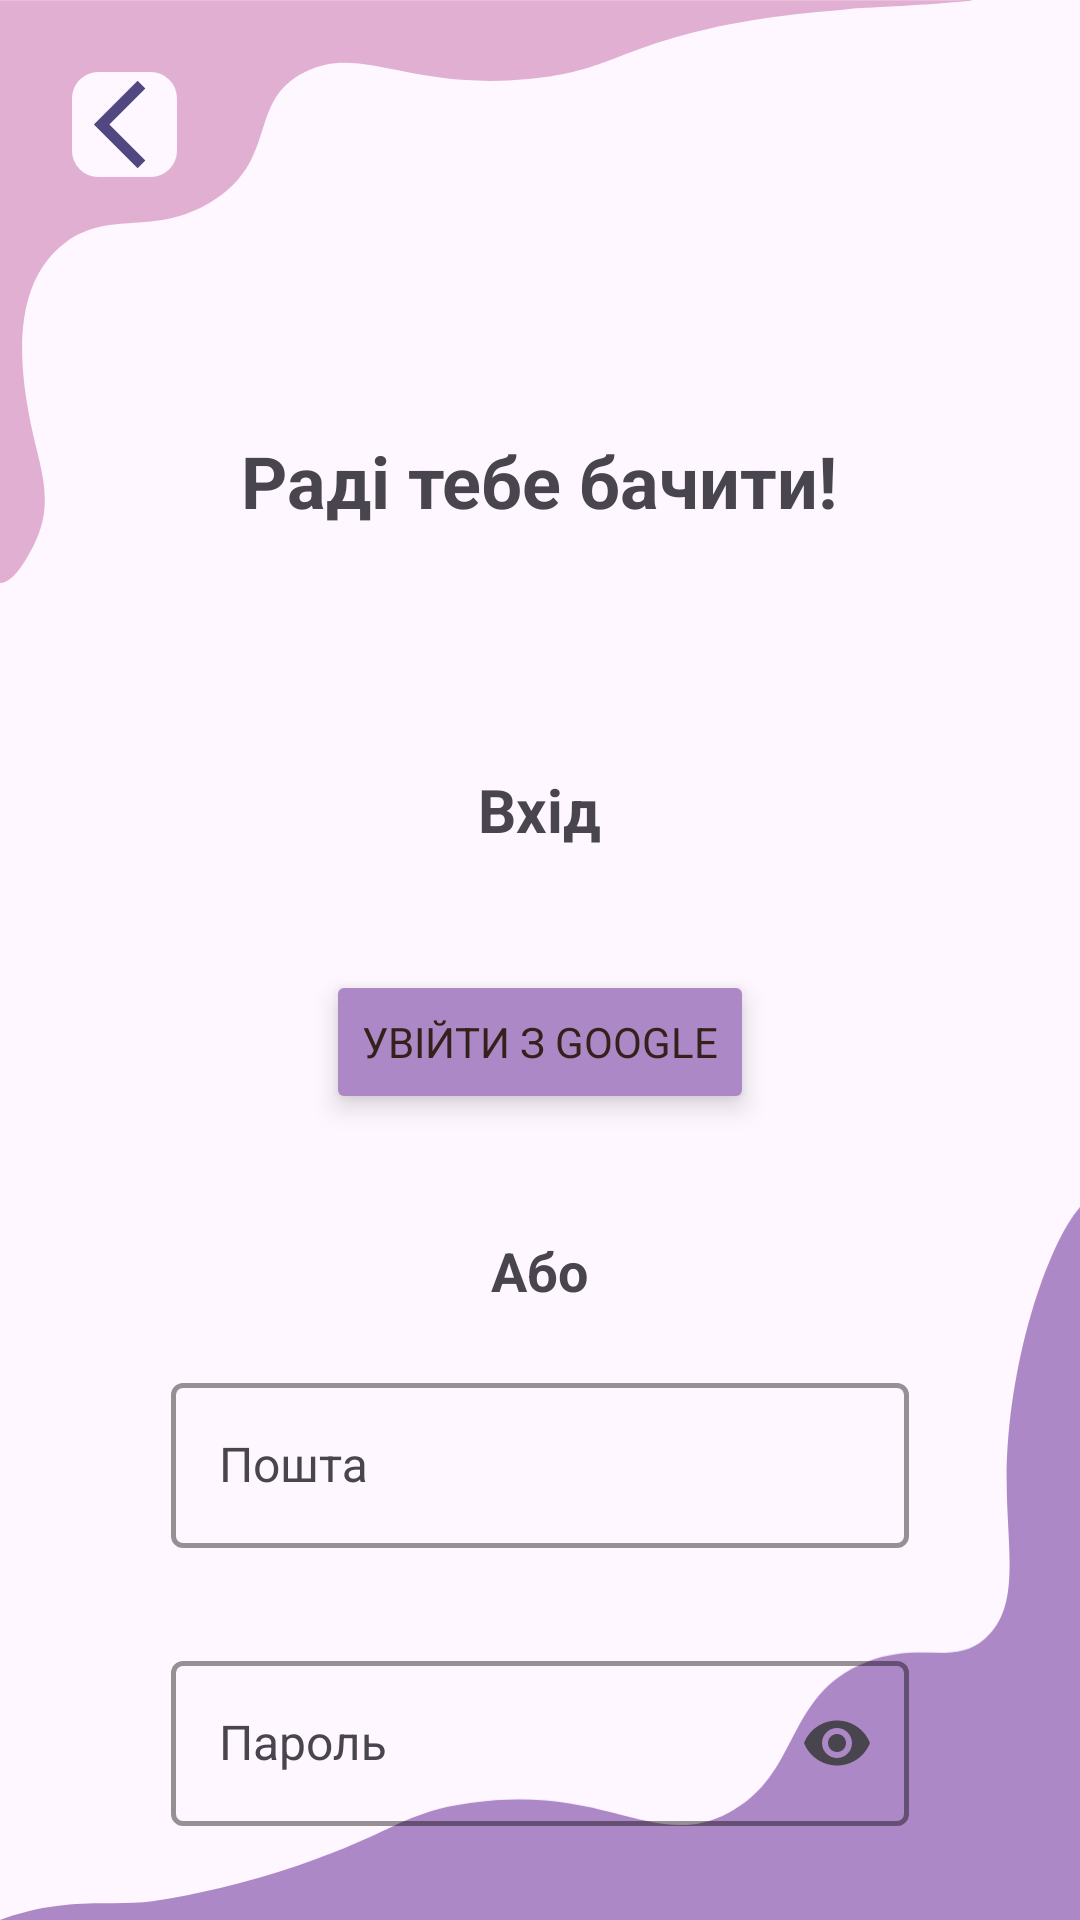

Where icons sit on this 1080 x 1920 app screen, as (x1, y1, x2, y2):
Повернутись на сторінку привітання: (72, 72, 177, 177)
